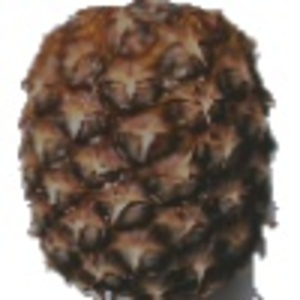abacaxi: (14, 1, 279, 295)
